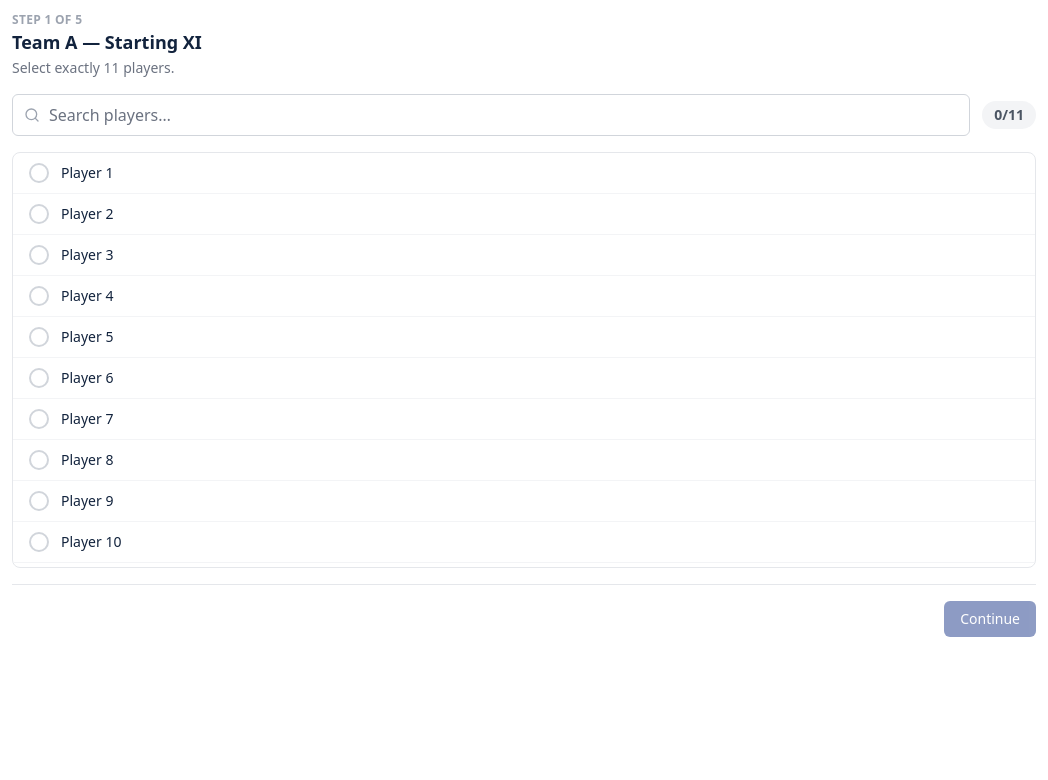
SquadPicker › filters the roster by search text
Expected: the text "Player 1" is shown, [61,163,113,182]
Type "Player 2" into the field with placeholder "Search players…" at (491, 115), box [12,94,970,136]
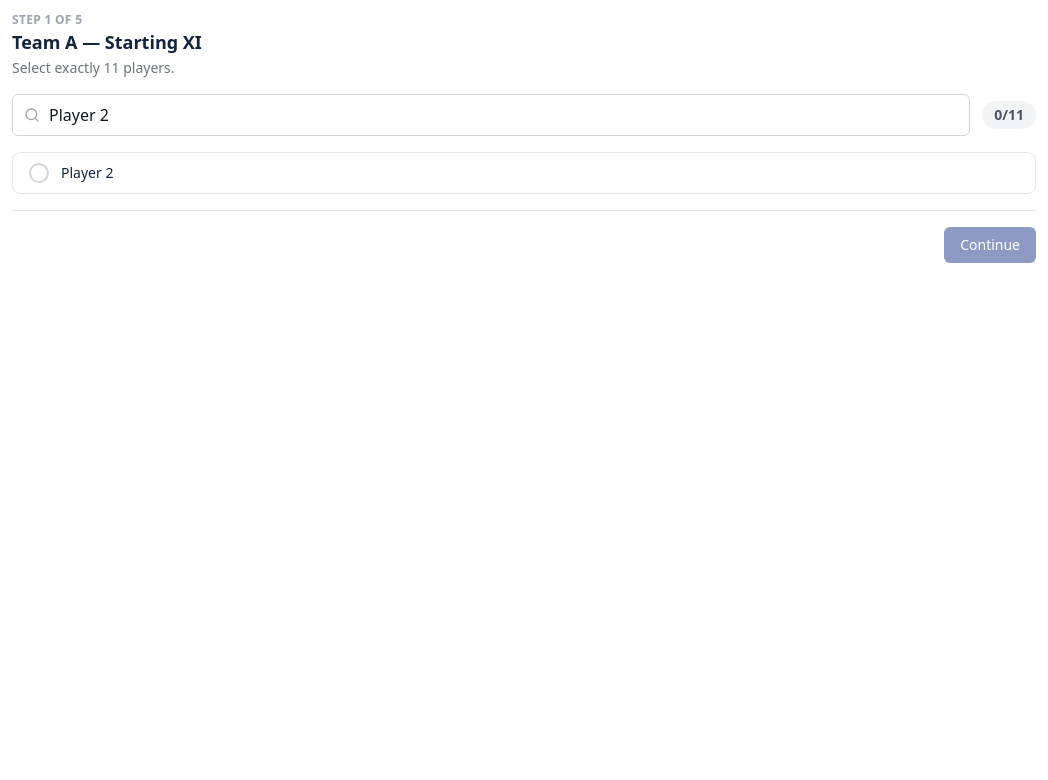
Expected: the text "Player 2" is shown, [61,163,113,182]
Expected: the button "Player 1" is gone
